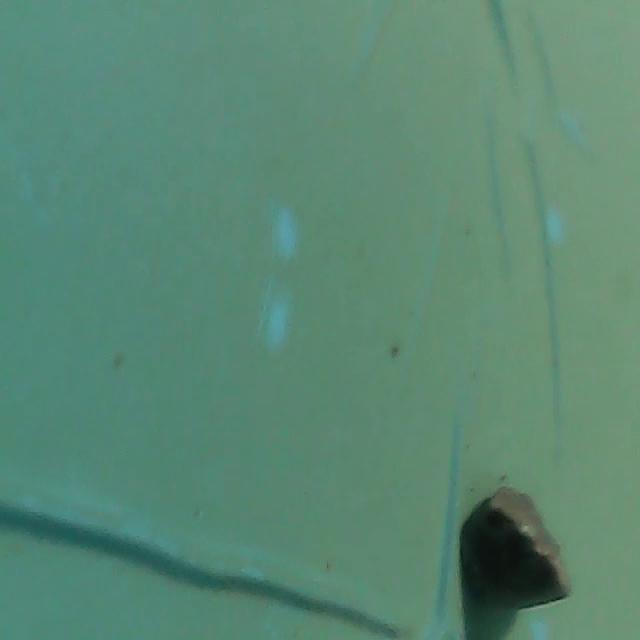rock: (455, 461, 581, 627)
